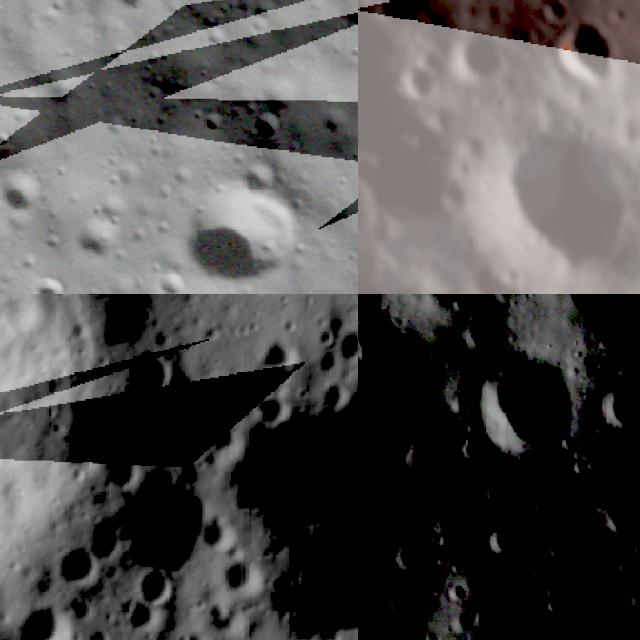crater: (0, 294, 115, 640), (475, 111, 640, 277), (162, 151, 326, 294), (463, 336, 590, 476), (578, 450, 640, 539), (113, 341, 191, 410), (70, 203, 145, 270), (561, 0, 615, 93), (358, 294, 408, 373), (385, 524, 443, 584), (0, 164, 56, 225), (464, 5, 501, 96), (253, 320, 309, 380), (78, 506, 136, 562), (49, 538, 104, 596), (595, 371, 640, 437), (6, 600, 77, 640), (371, 0, 430, 43), (213, 553, 266, 599), (247, 382, 298, 426), (244, 105, 290, 152), (128, 561, 174, 607), (314, 371, 358, 416), (188, 102, 233, 143), (403, 53, 436, 106), (358, 583, 387, 639), (328, 315, 358, 367), (482, 520, 519, 562), (30, 270, 79, 294), (152, 267, 187, 294), (443, 576, 472, 607), (536, 0, 573, 21), (109, 0, 153, 17), (0, 122, 19, 153)
